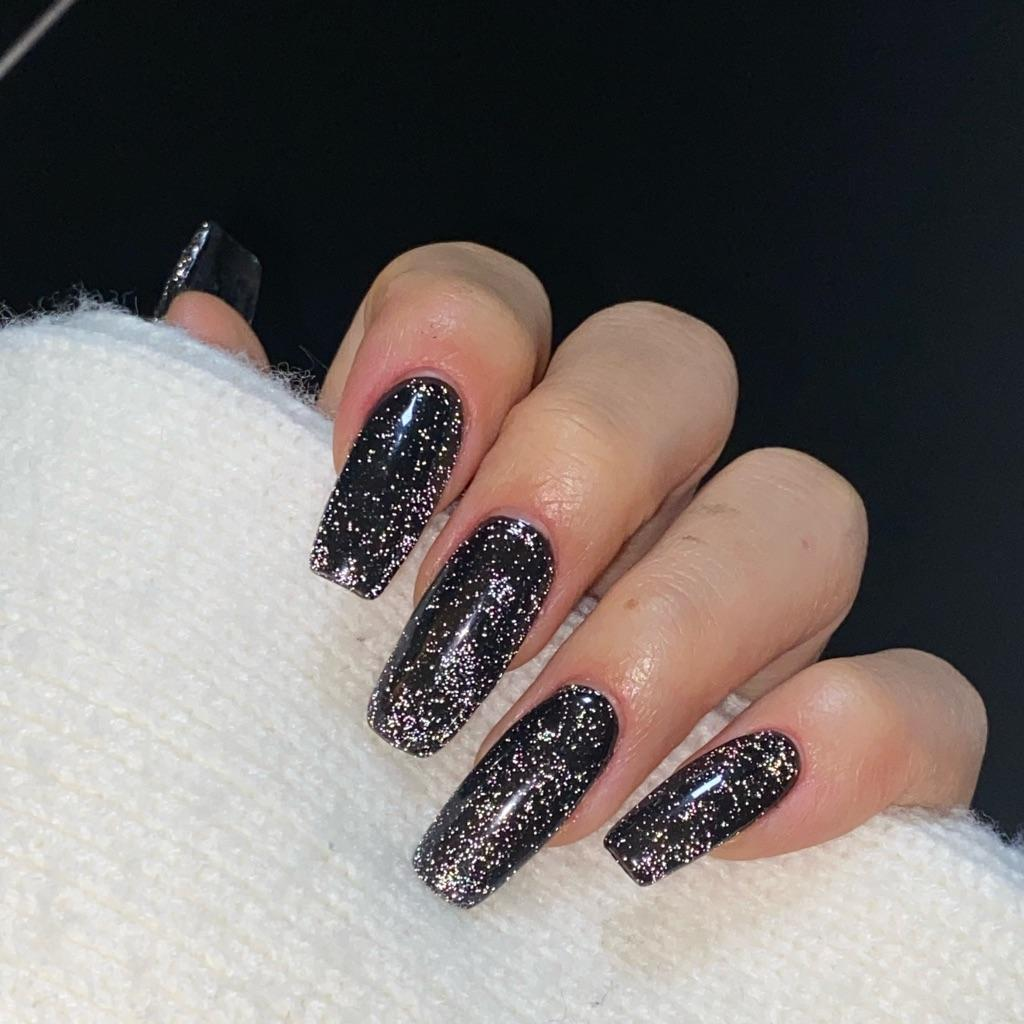nail: (411, 681, 619, 908), (365, 513, 556, 757), (308, 372, 465, 600), (602, 727, 802, 886), (154, 218, 262, 327)
